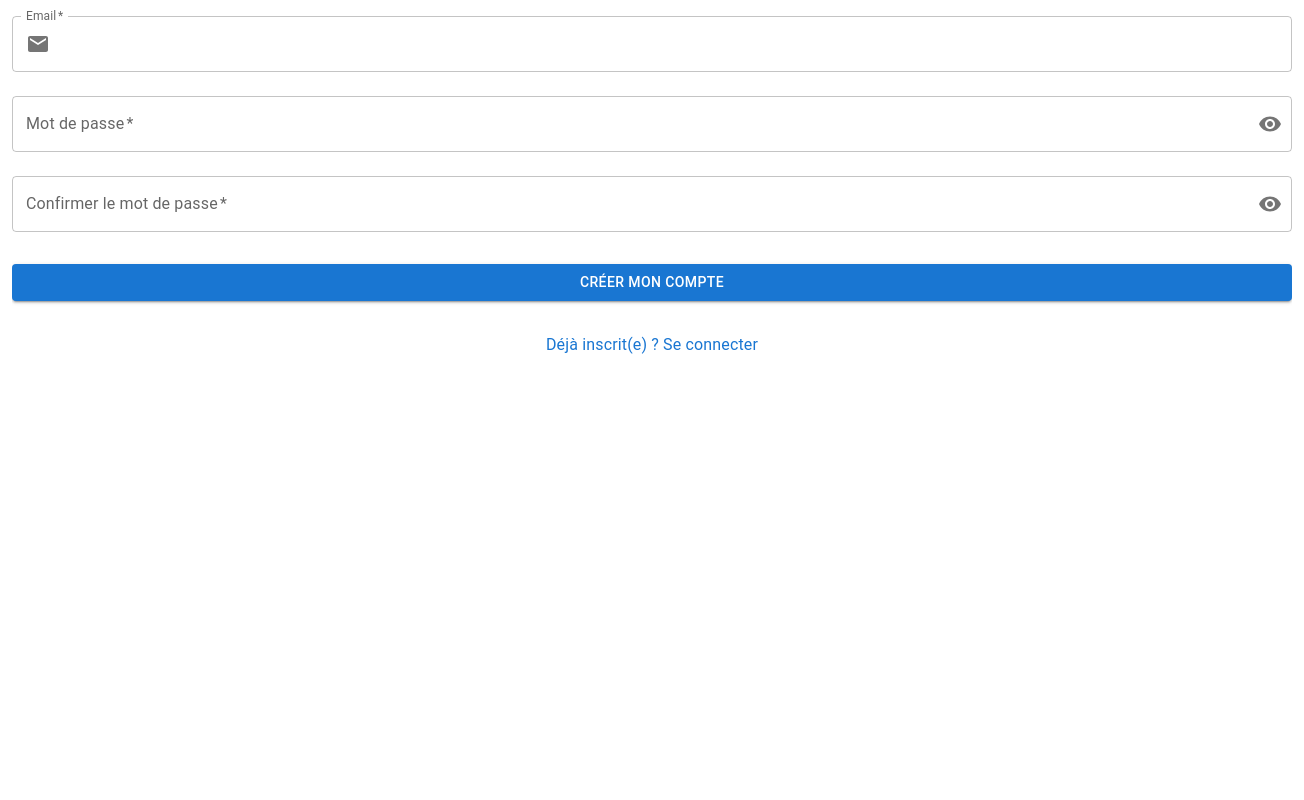
Test: AuthForm › mode signup › affiche un message d'erreur si les mots de passe ne correspondent pas
The width and height of the screenshot is (1304, 800).
Type "ok@example.com" into the field labelled "Email *".
click(675, 44); type("ok@example.com")  # box [58,16,1292,72]
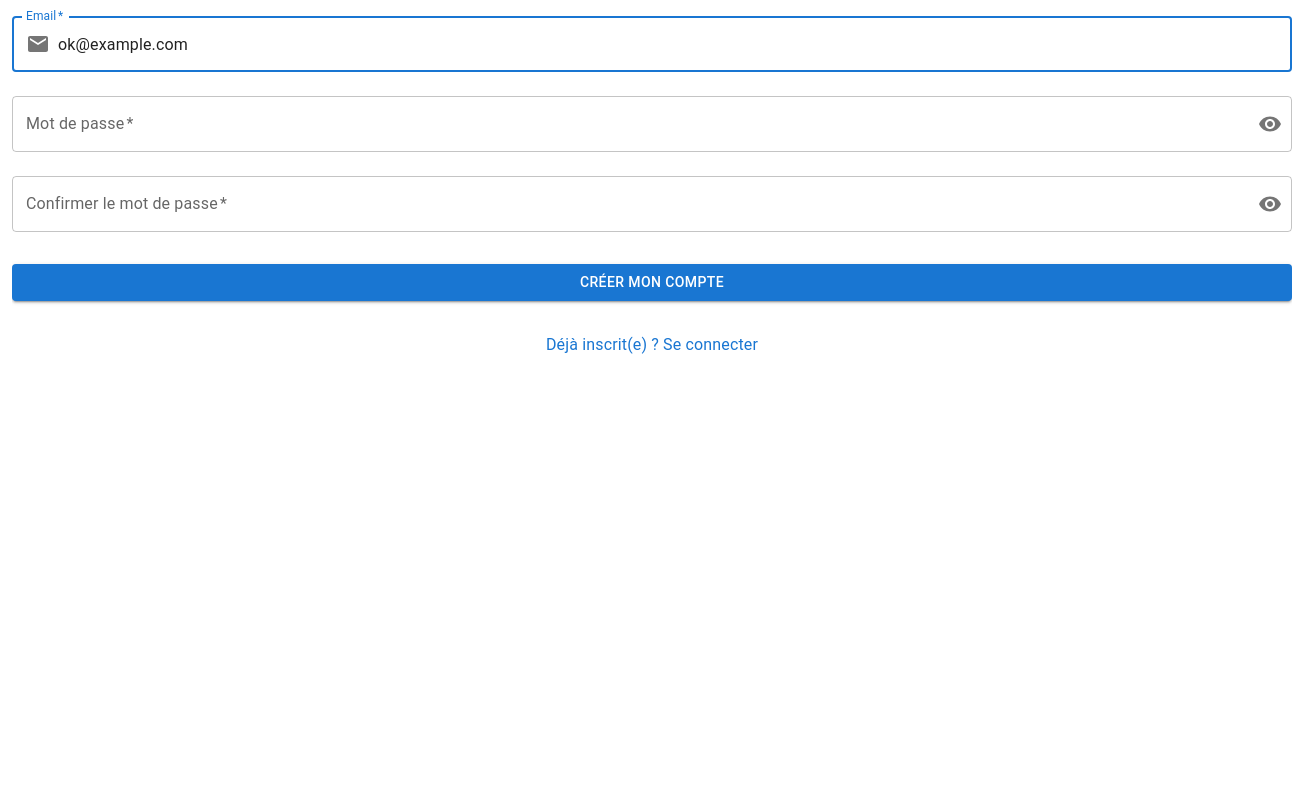
Type "Aaaaaaaaaa1!" into the password field labelled "Mot de passe *".
click(627, 124); type("Aaaaaaaaaa1!")  # box [12,96,1242,152]
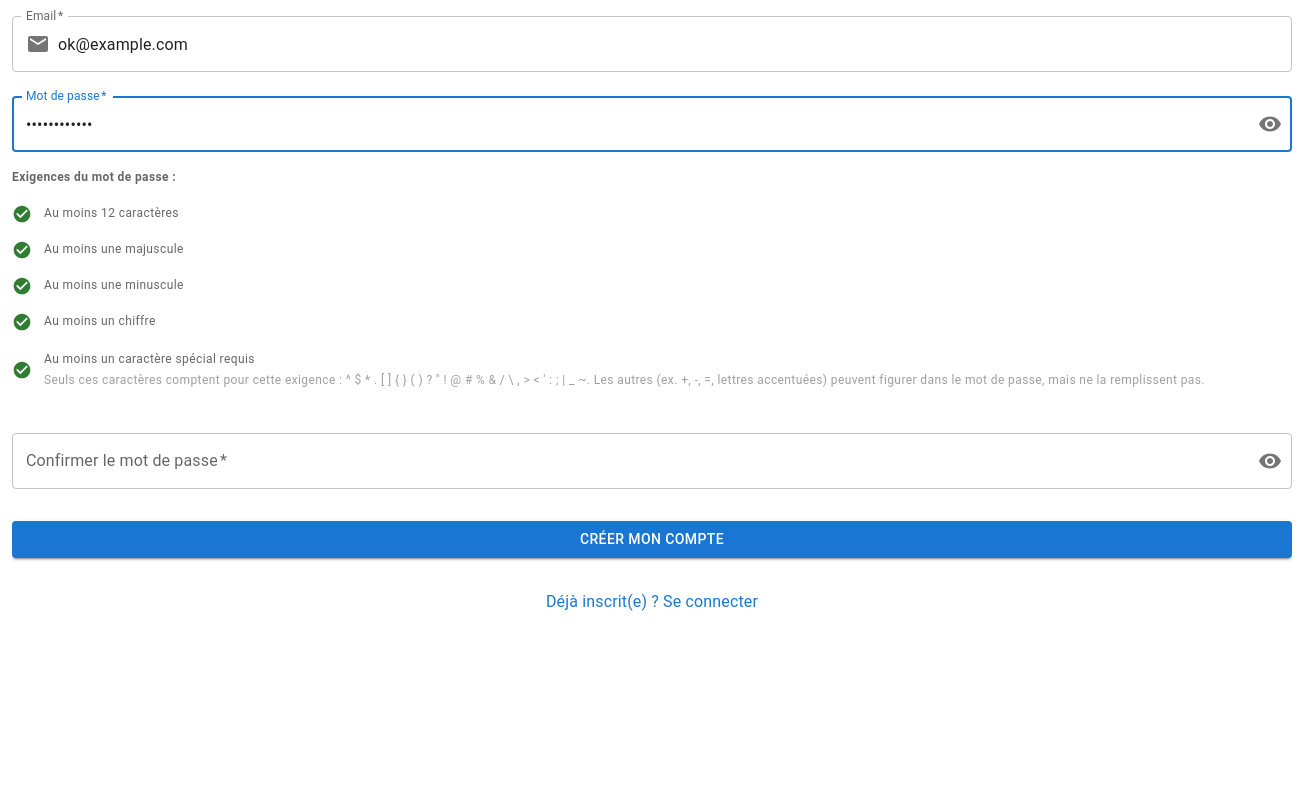
Type "Different1!aa" into the password field labelled "Confirmer le mot de passe *".
click(627, 461); type("Different1!aa")  # box [12,433,1242,489]
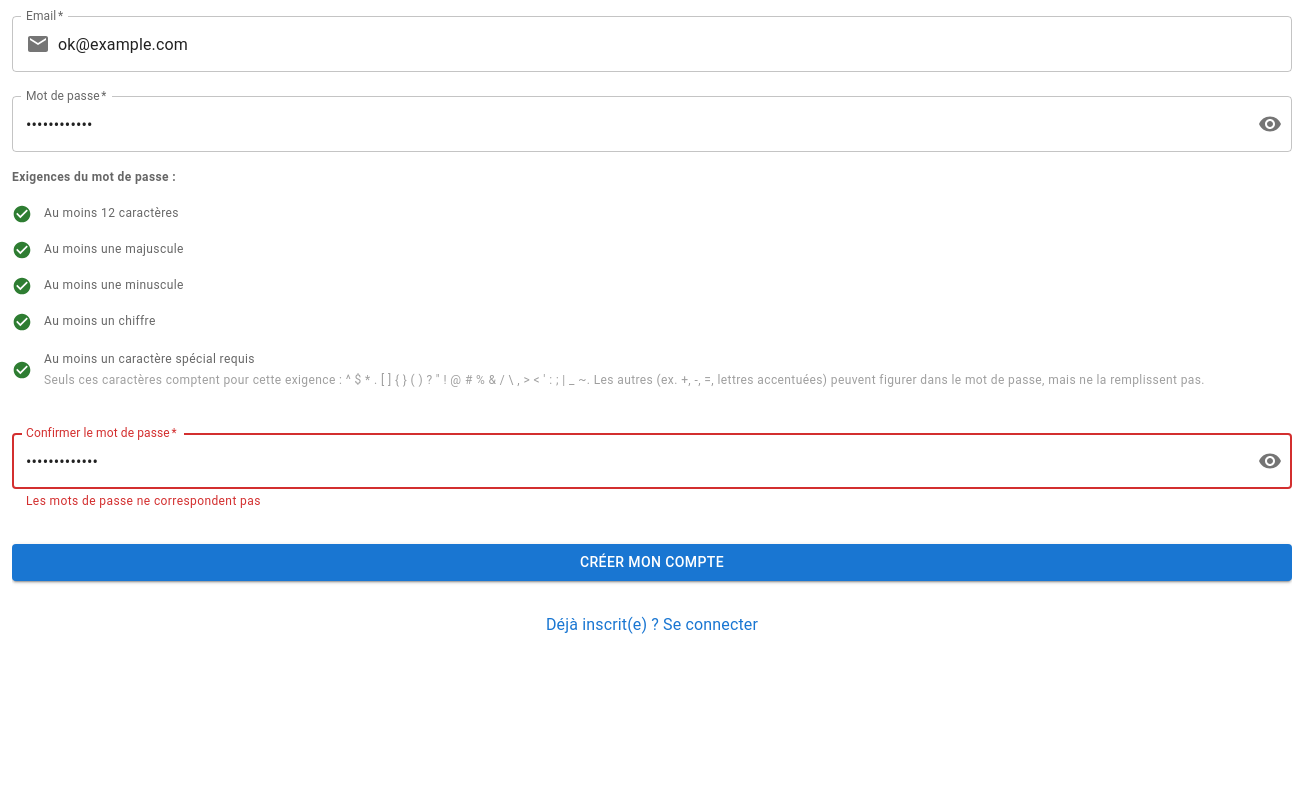
expect the text "Les mots de passe ne correspondent pas" is shown: met, box [26,494,261,508]
